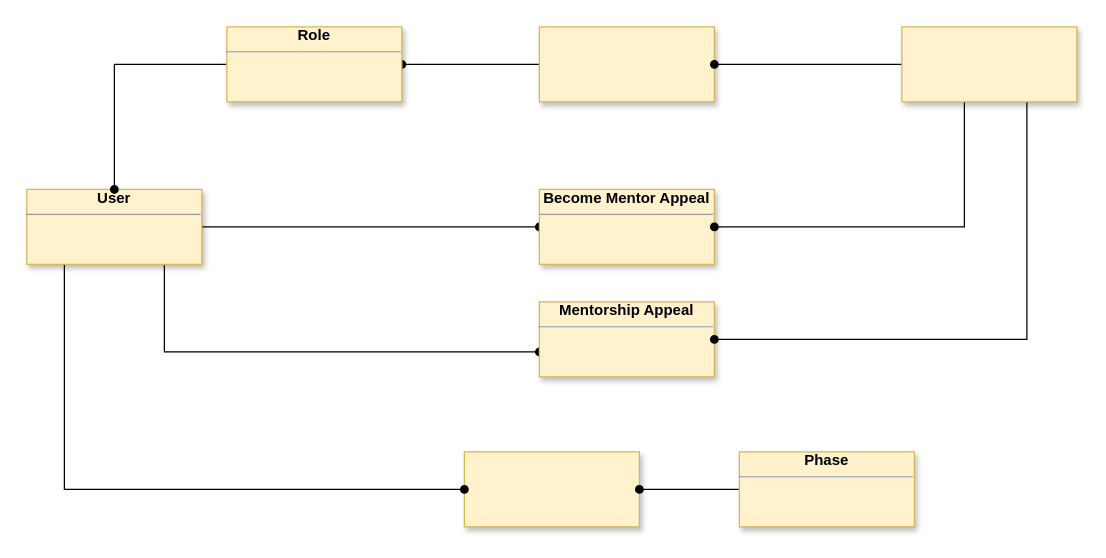
Some shapes in this 1106 by 558 pixel diagram are drawn without their labels. The shapes that lost their labels are listed below. From the top down, each one's centre as x and y in pixels, then its label:
At (x=627, y=66): "Topic".
At (x=990, y=66): "Subtopic".
At (x=552, y=491): "Mentorship".
